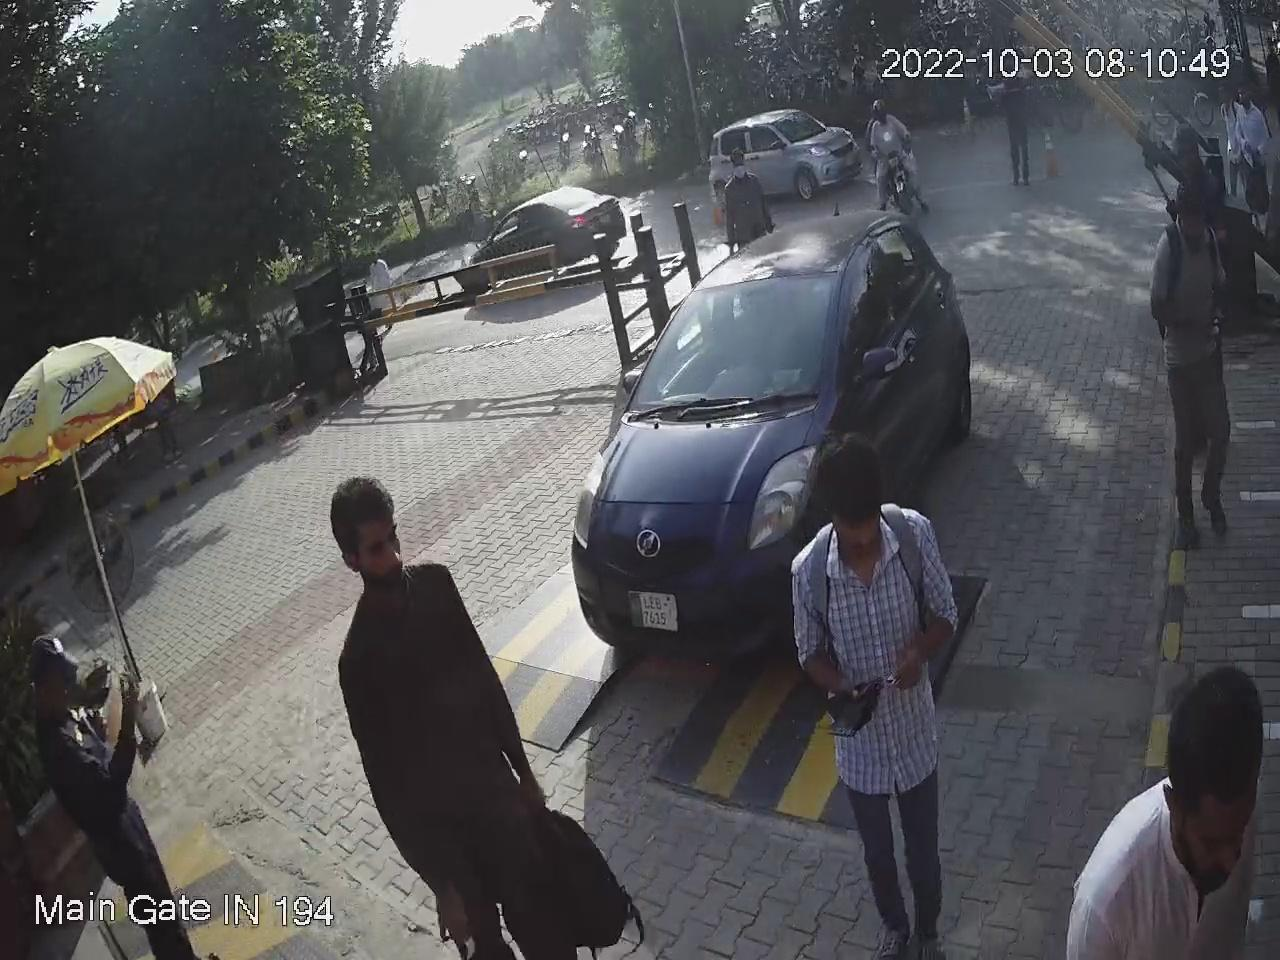windshield: (626, 250, 846, 415)
